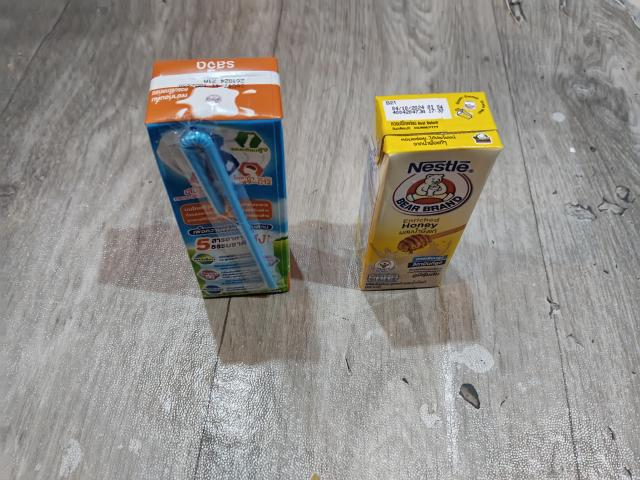drink_box: (132, 49, 302, 309), (346, 86, 513, 298)
